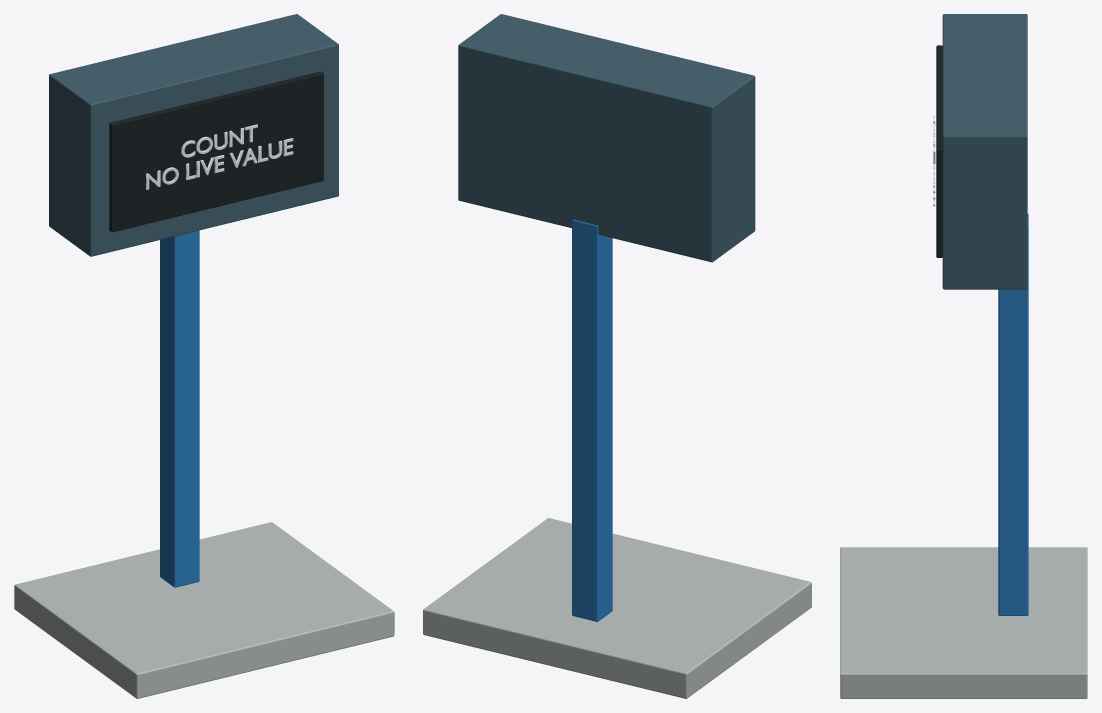
Rendered from count_display.glb.
3 views of the same model, side by side, from view 1: azimuth 30°, elevation 25°; view 2: azimuth 150°, elevation 25°; view 3: azimuth 270°, elevation 25° (orthographic). The views are drawn at different scales.
Visible parts, largest first — view 1: COUNT_DISPLAY_base, COUNT_DISPLAY_housing, COUNT_DISPLAY_screen, COUNT_DISPLAY_mast, COUNT_DISPLAY_static_legend; view 2: COUNT_DISPLAY_housing, COUNT_DISPLAY_base, COUNT_DISPLAY_mast; view 3: COUNT_DISPLAY_base, COUNT_DISPLAY_housing, COUNT_DISPLAY_mast, COUNT_DISPLAY_screen.
Part boxes in pixels (x1,y1,x2,y2): COUNT_DISPLAY_base: (14,522,394,698); COUNT_DISPLAY_housing: (49,14,338,256); COUNT_DISPLAY_screen: (109,71,323,232); COUNT_DISPLAY_mast: (160,230,199,587); COUNT_DISPLAY_static_legend: (146,124,293,189); COUNT_DISPLAY_housing: (458,14,755,262); COUNT_DISPLAY_base: (423,518,811,698); COUNT_DISPLAY_mast: (572,219,612,621); COUNT_DISPLAY_base: (840,547,1087,698); COUNT_DISPLAY_housing: (942,14,1027,289); COUNT_DISPLAY_mast: (998,213,1028,615); COUNT_DISPLAY_screen: (936,45,942,257).
Bounding box in the file's own units: 0.85 × 1.75 × 0.7.
